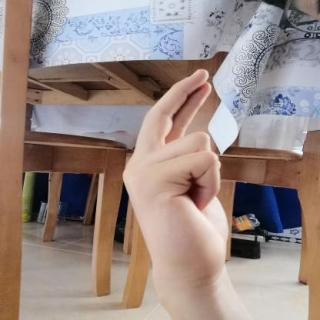ZAY: (114, 61, 238, 292)
